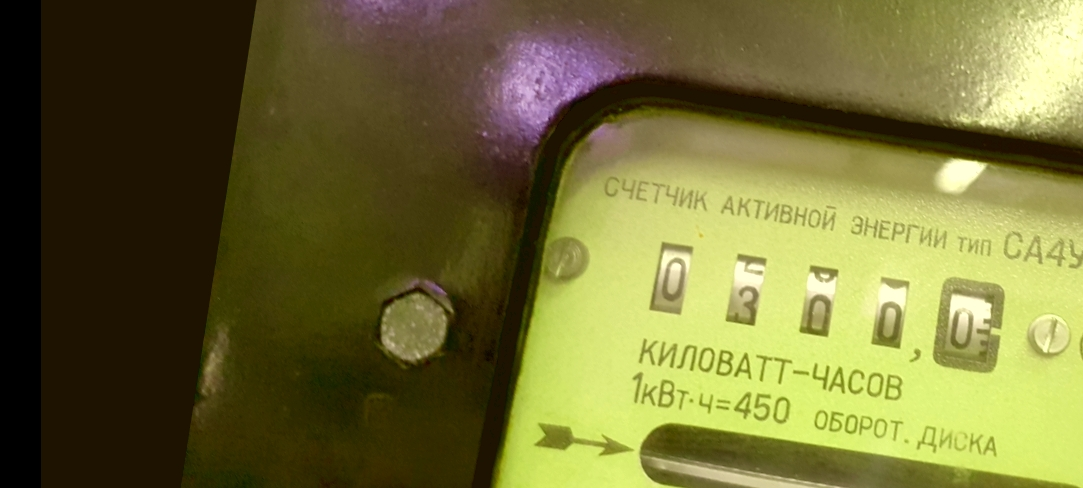0: (944, 301, 979, 353), (870, 296, 906, 346), (657, 250, 690, 304), (800, 286, 834, 338)
3: (729, 279, 763, 326)
screen: (626, 220, 1018, 383)
